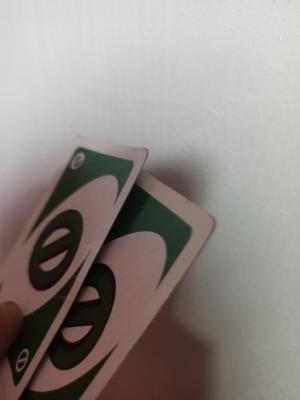green: (50, 155, 113, 376)
